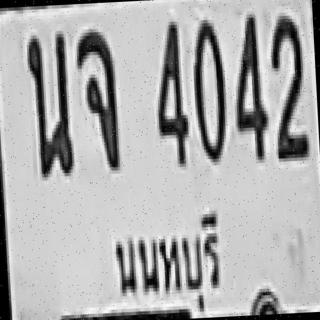A08: (74, 28, 118, 169)
A25: (24, 31, 72, 175)
N00: (188, 16, 227, 160)
N02: (266, 12, 306, 159)
N04: (230, 11, 268, 158), (152, 17, 188, 164)
P37: (102, 199, 231, 315)
